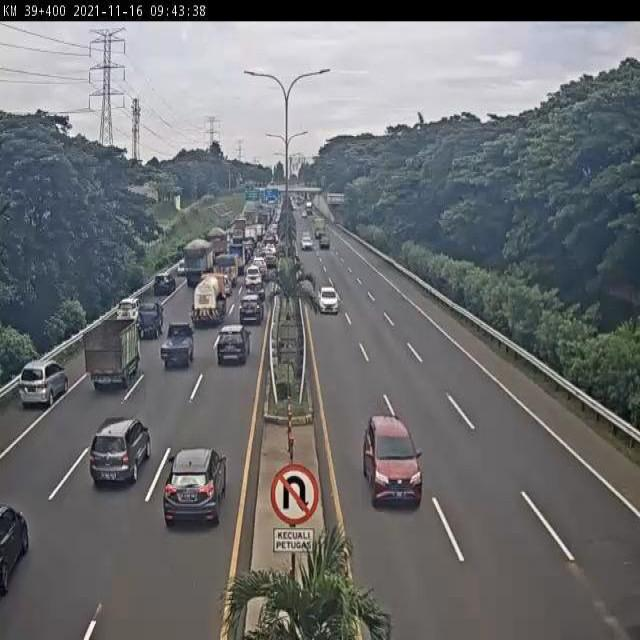car: (348, 403, 432, 528), (148, 445, 232, 552), (73, 409, 158, 511), (9, 348, 72, 420), (203, 316, 256, 385), (0, 496, 34, 600), (146, 260, 182, 309), (233, 290, 269, 338), (159, 320, 194, 369), (104, 291, 146, 329), (310, 276, 343, 323), (132, 299, 166, 340), (238, 259, 268, 296), (242, 276, 268, 313), (170, 248, 192, 283)
small truck: (211, 252, 240, 289)
truck-l-: (182, 235, 219, 289)
truck-m-: (82, 316, 141, 393), (180, 267, 234, 336)
